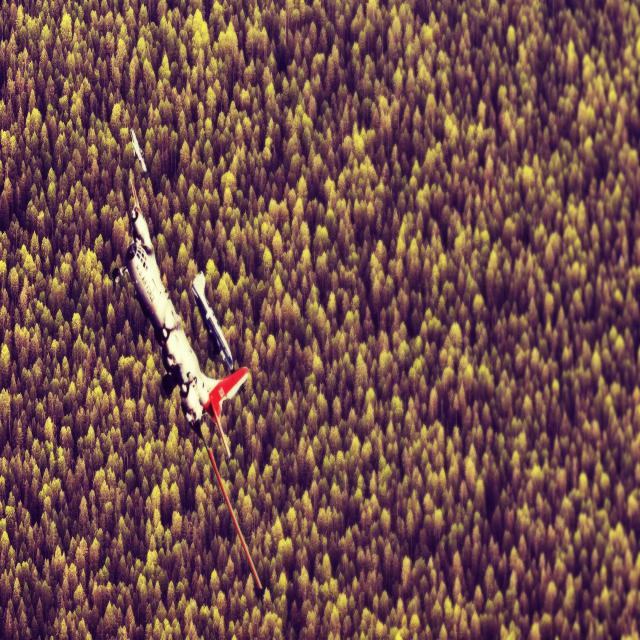airplane: (111, 127, 263, 591), (189, 268, 233, 370)
